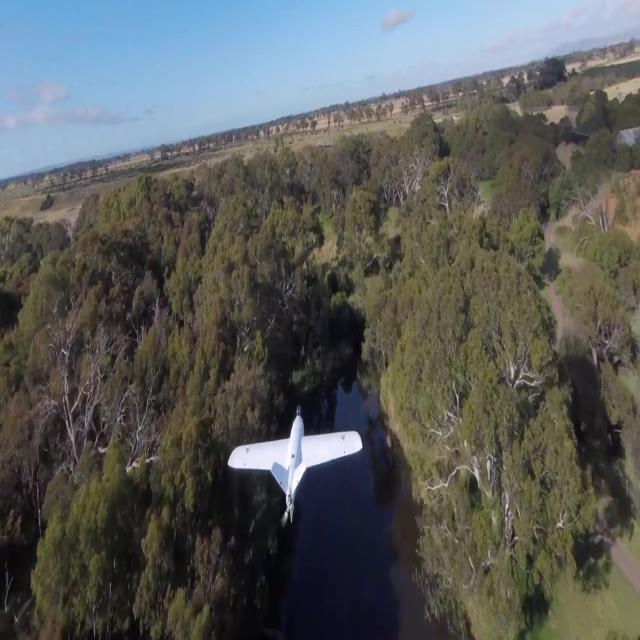iha: (231, 435, 359, 492)
